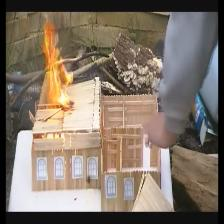fire: (43, 22, 73, 108)
